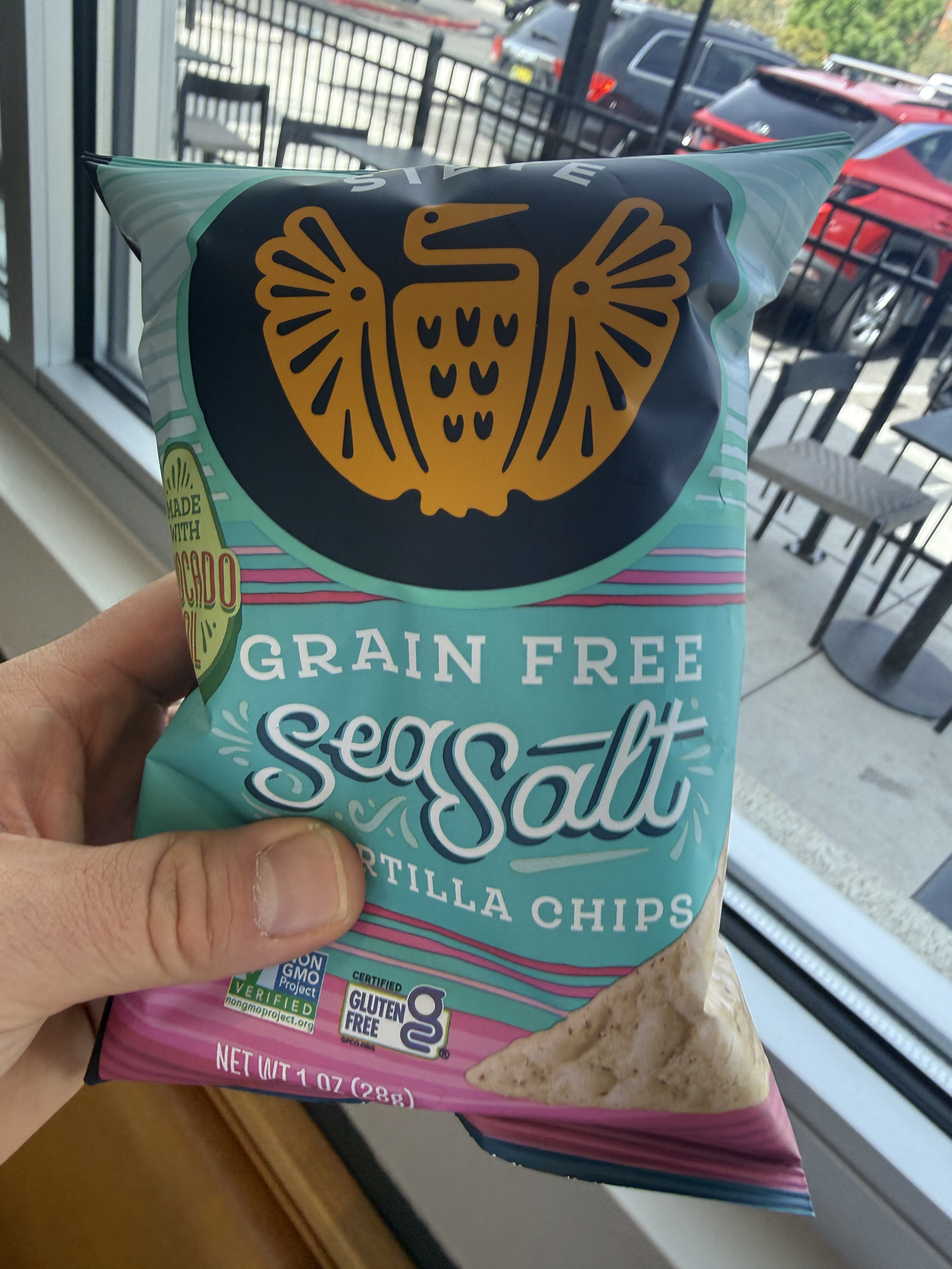sea_salt: (89, 147, 803, 1185)
